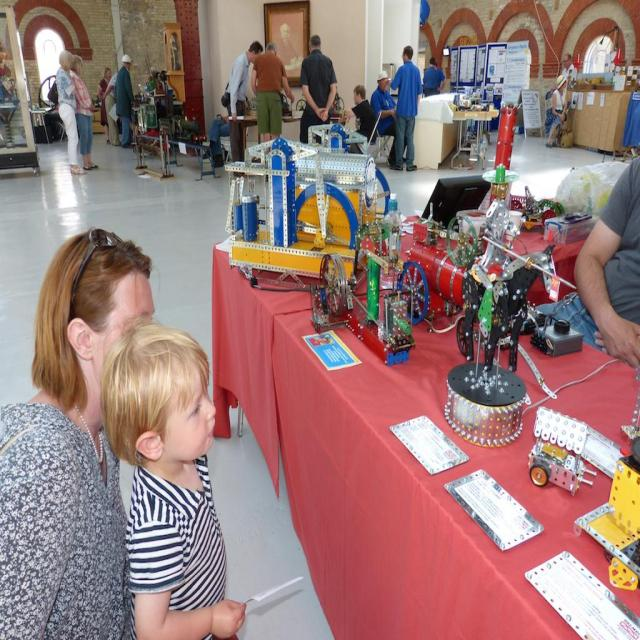Toy: (463, 212, 538, 386), (522, 436, 594, 486)
